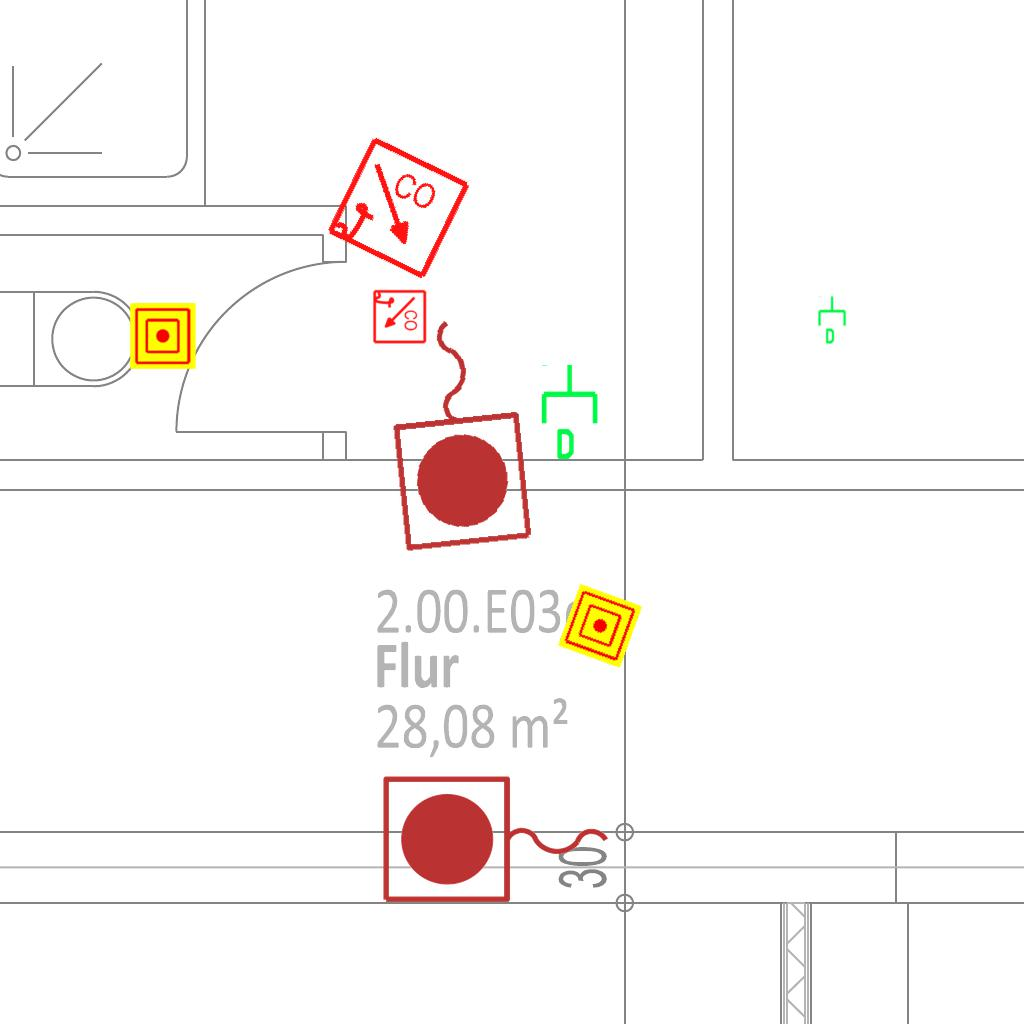Datenanschluss_einfach: (537, 362, 606, 462), (816, 295, 850, 345)
NAM-Nichtautomatischer_Melder: (557, 583, 643, 669), (130, 303, 196, 369)
ROA_Rauchmelder_optisch_mit_Signalgeber_(Sockelsirene): (322, 133, 475, 286), (371, 289, 427, 345)
Zugtaster: (374, 302, 544, 560), (375, 769, 619, 913)
